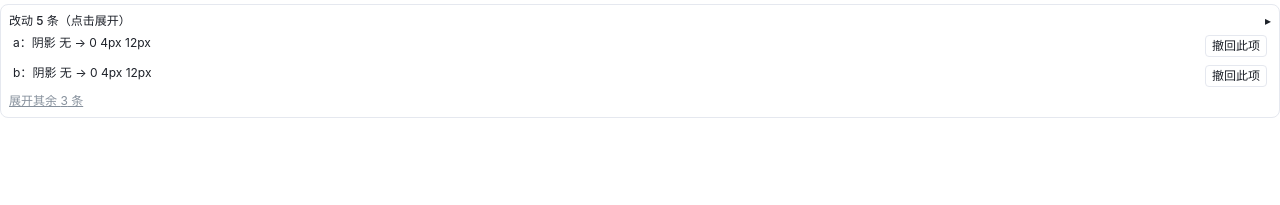
Test: 折叠 › 超过 3 条默认折叠，点一下展开
The width and height of the screenshot is (1280, 205).
Click the button with test id "change-list-toggle": (95,20) [9,13,1271,29]
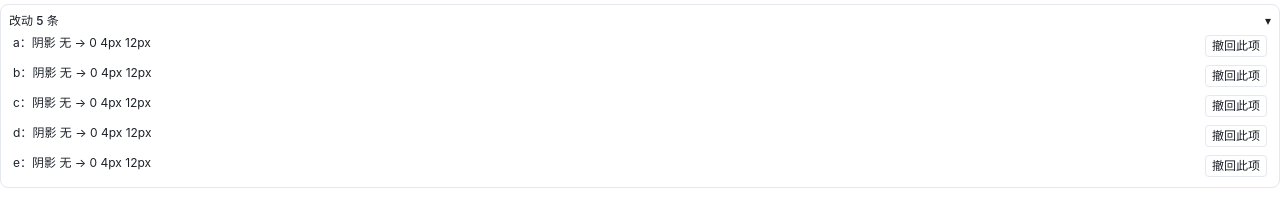
Expected: the list item with test id "change-item-4" is shown, [9,153,1271,179]
